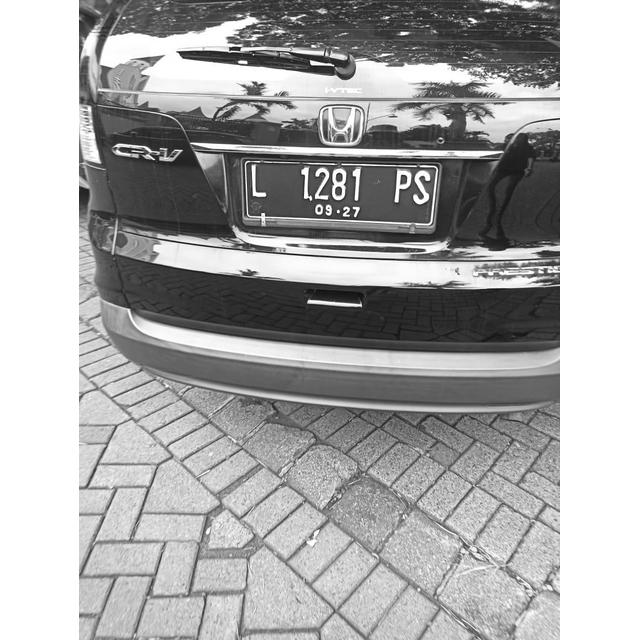license: (249, 162, 431, 219)
